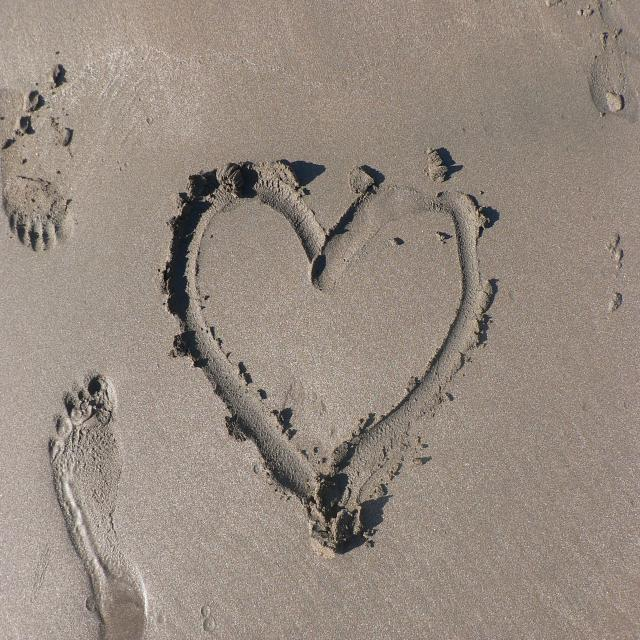human_footprint: (159, 143, 500, 557), (20, 347, 186, 637)
